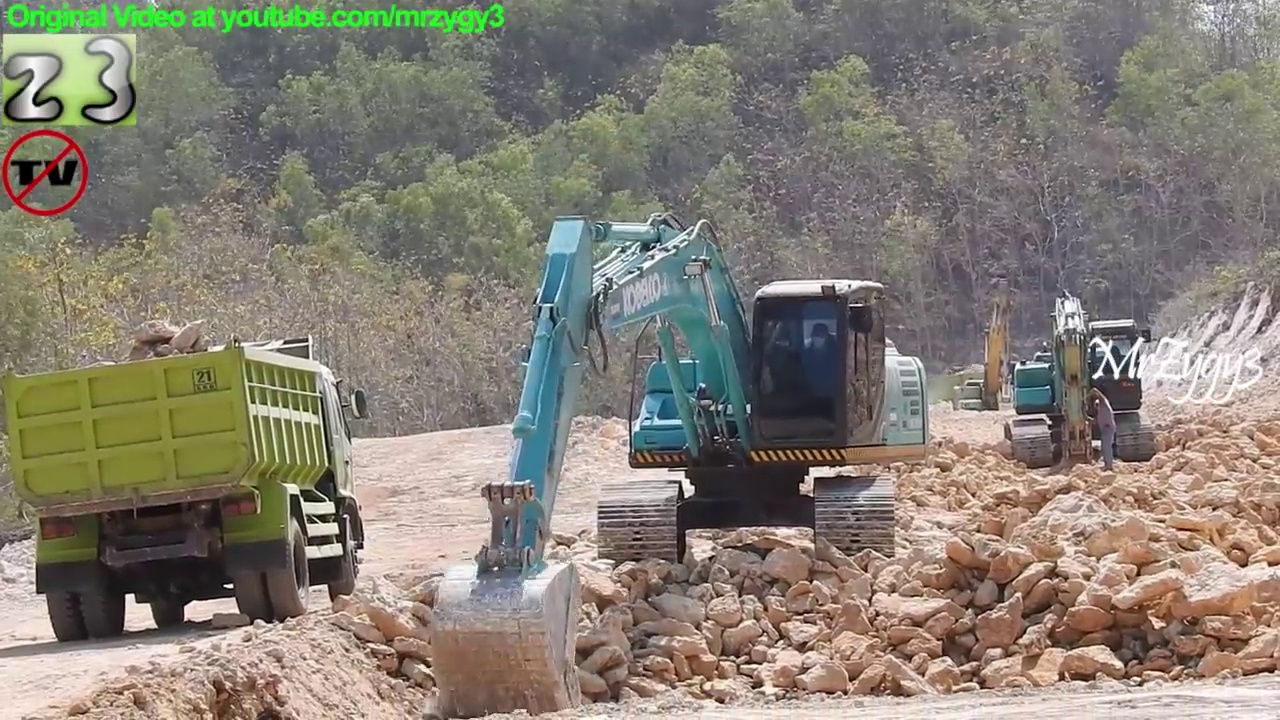excavator: (423, 202, 939, 720), (947, 289, 1038, 428)
excavator breaker: (998, 286, 1162, 482)
truck: (1, 325, 374, 647)
worker: (1077, 379, 1127, 478)
